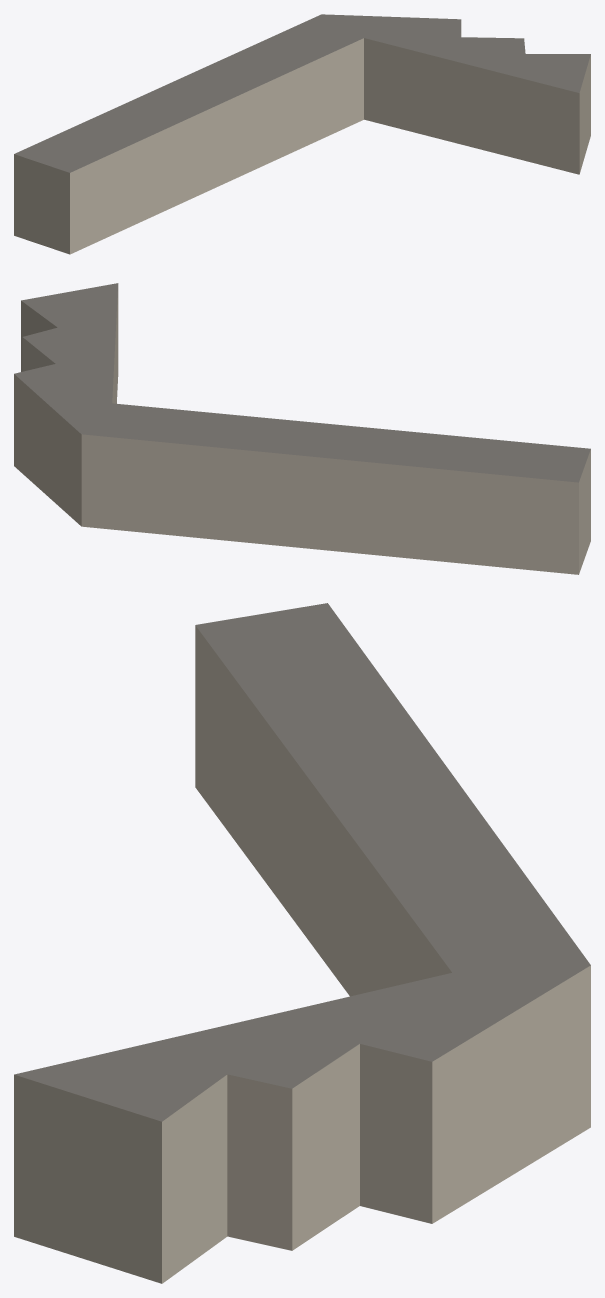
3 views of the same model, one above another, from view 1: azimuth 30°, elevation 25°; view 2: azimuth 150°, elevation 25°; view 3: azimuth 270°, elevation 25° (orthographic). The views are drawn at different scales.
Visible parts, largest first — view 1: HP-w369237970; view 2: HP-w369237970; view 3: HP-w369237970.
Part boxes in pixels (x1=…): HP-w369237970: x1=14, y1=14, x2=590, y2=254; HP-w369237970: x1=14, y1=283, x2=590, y2=574; HP-w369237970: x1=14, y1=603, x2=590, y2=1283.
Size of the model in its own units: 123 by 18 by 58.04.
